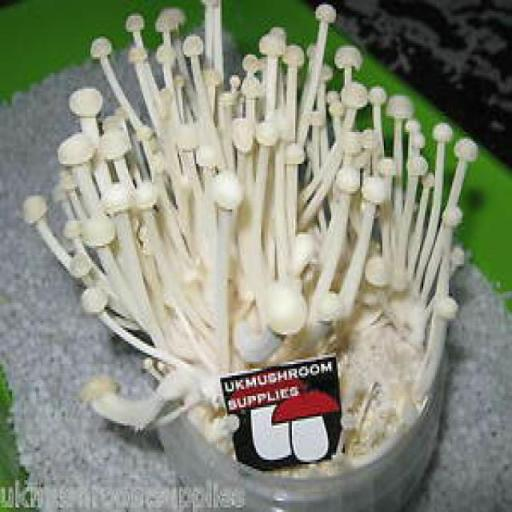Enoki Mushroom: (26, 1, 478, 455)
